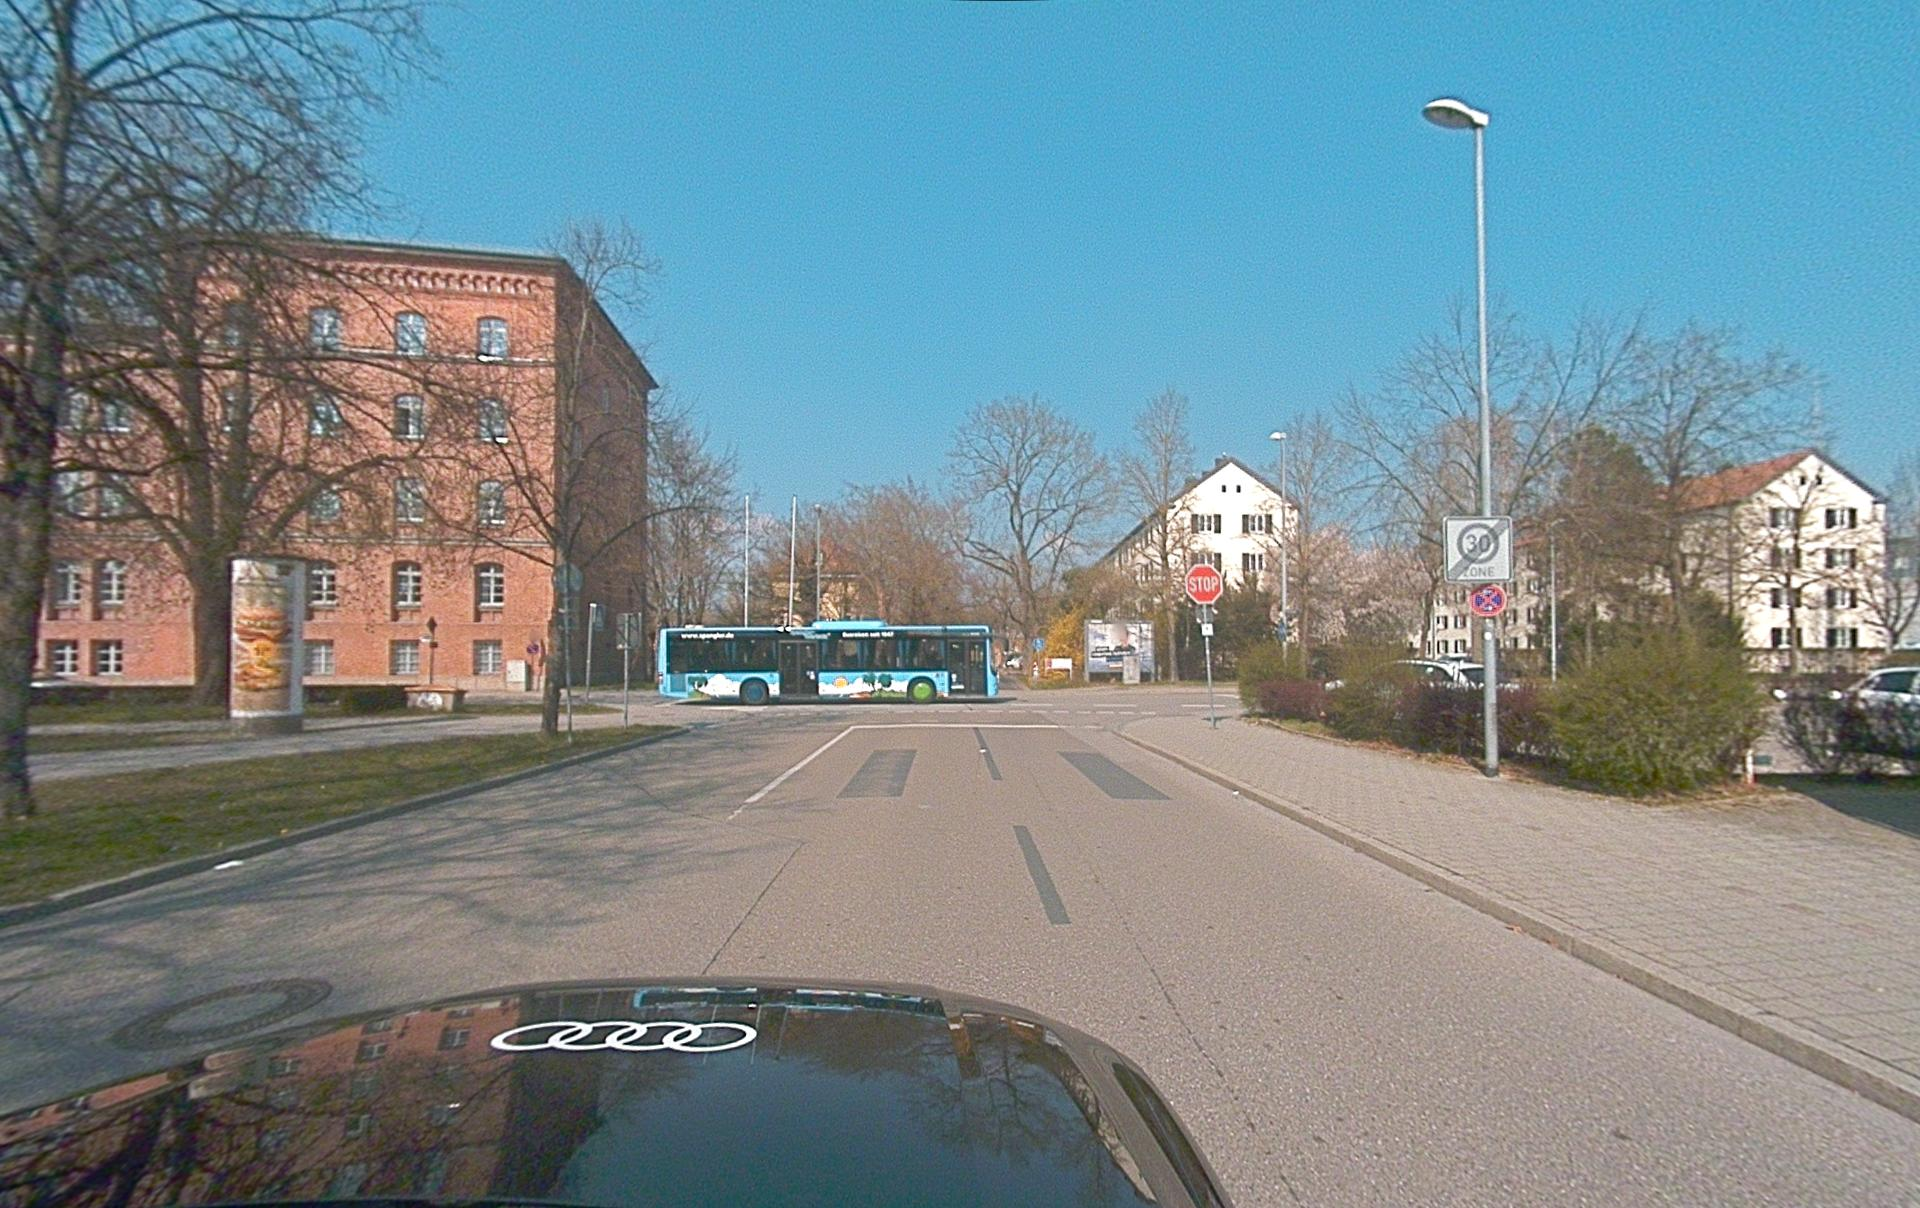car: (0, 977, 1235, 1207)
traffic sign: (1443, 515, 1514, 583), (1184, 564, 1223, 605)
